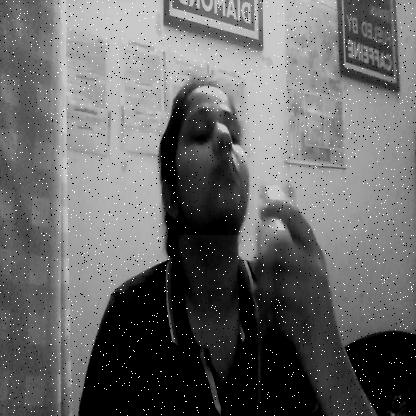Distracted: (159, 84, 254, 235)
